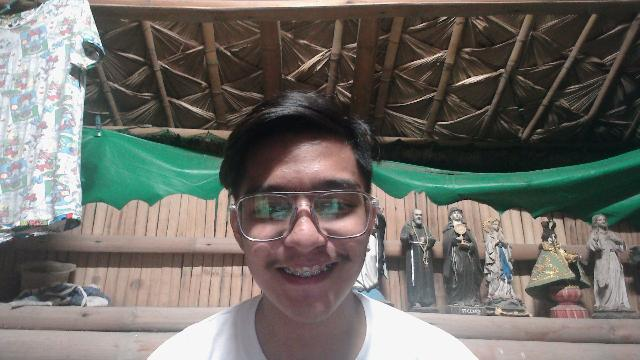senang: (231, 125, 374, 312)
